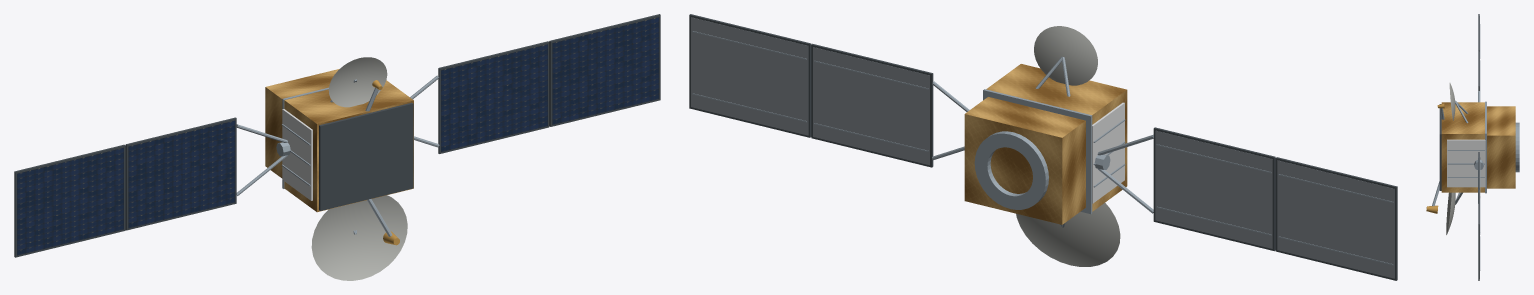
Rendered from ref-i1k-37746.glb.
The picture shows the model from 3 angles, left to right: view 1: azimuth 30°, elevation 25°; view 2: azimuth 150°, elevation 25°; view 3: azimuth 270°, elevation 25°; orthographic projection. The views are drawn at different scales.
Parts seen in each view (by area): view 1: Solar cell panel (×4), Earth-facing deck, Communications reflector (×2), Solar panel frame (×4), Payload module, Service module, Radiator face; view 2: Rear array substrate (×4), Service module, Communications reflector (×2), Solar panel frame (×4), Payload module, Launch adapter ring, Radiator face, Module interface; view 3: Service module, Payload module, Radiator face, Communications reflector (×2), Solar panel frame (×4), Launch adapter ring, Earth-facing deck, Module interface, Rear array substrate, Feed horn, Array drive, Offset feed boom.
Part boxes in pixels (<box>): Solar cell panel (×4): <box>17,17,659,255</box>; Earth-facing deck: <box>319,102,413,210</box>; Communications reflector (×2): <box>311,57,407,280</box>; Solar panel frame (×4): <box>14,14,660,257</box>; Payload module: <box>284,80,413,212</box>; Service module: <box>265,69,339,178</box>; Radiator face: <box>282,109,312,200</box>; Rear array substrate (×4): <box>691,17,1394,278</box>; Service module: <box>964,97,1085,224</box>; Communications reflector (×2): <box>1016,26,1120,266</box>; Solar panel frame (×4): <box>689,14,1397,280</box>; Payload module: <box>986,64,1127,211</box>; Launch adapter ring: <box>974,131,1048,209</box>; Radiator face: <box>1092,102,1124,203</box>; Module interface: <box>983,89,1092,214</box>; Service module: <box>1487,106,1515,188</box>; Payload module: <box>1441,102,1484,192</box>; Radiator face: <box>1447,139,1485,187</box>; Communications reflector (×2): <box>1446,83,1455,234</box>; Solar panel frame (×4): <box>1478,14,1479,280</box>; Launch adapter ring: <box>1515,122,1519,172</box>; Earth-facing deck: <box>1439,104,1441,190</box>; Module interface: <box>1485,101,1486,193</box>; Rear array substrate: <box>1479,190,1479,278</box>; Feed horn: <box>1426,205,1438,213</box>; Array drive: <box>1474,160,1483,169</box>; Offset feed boom: <box>1432,181,1439,206</box>.
Bounding box in the file's own units: 9.98 × 3.24 × 1.87.
8 materials, 2 textured.
